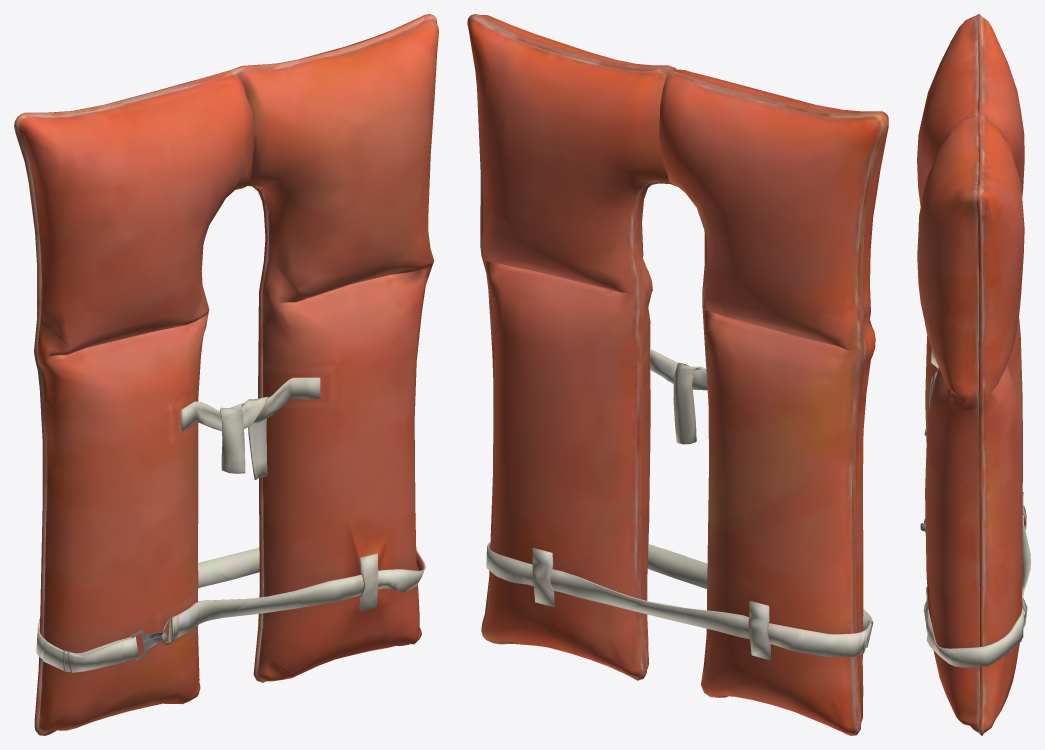
File: life_jacket.glb
3 renders of one model, left to right at view 1: azimuth 30°, elevation 25°; view 2: azimuth 150°, elevation 25°; view 3: azimuth 270°, elevation 25°, orthographic. The views are drawn at different scales.
Visible parts, largest first — view 1: life_jacket; view 2: life_jacket; view 3: life_jacket.
Boxes of the visible parts, x1=… form: life_jacket: x1=14, y1=14, x2=438, y2=735; life_jacket: x1=467, y1=14, x2=888, y2=735; life_jacket: x1=917, y1=14, x2=1030, y2=735.
Bounding box in the file's own units: 0.6954 × 0.9923 × 0.1841.
Materials: 1 (1 with a texture image).
